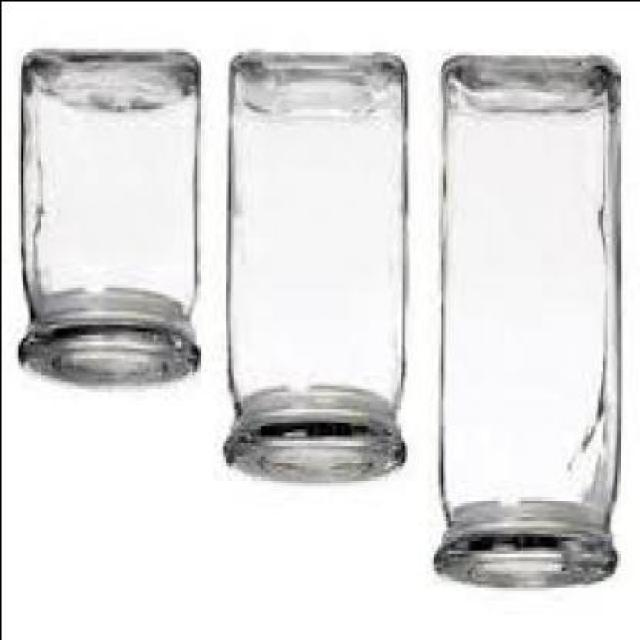GLASS: (430, 58, 618, 593), (220, 51, 406, 478), (14, 47, 198, 391)
